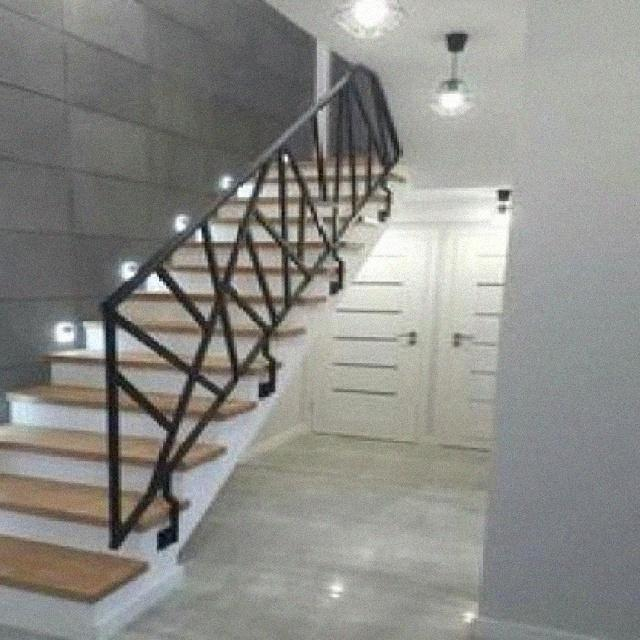stair: (3, 101, 439, 630)
